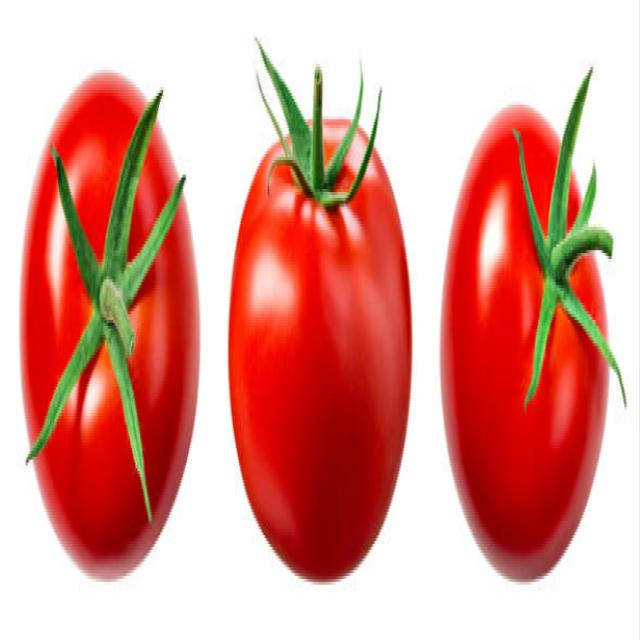Tomato: (15, 68, 200, 575), (241, 70, 411, 574), (442, 95, 616, 562)
